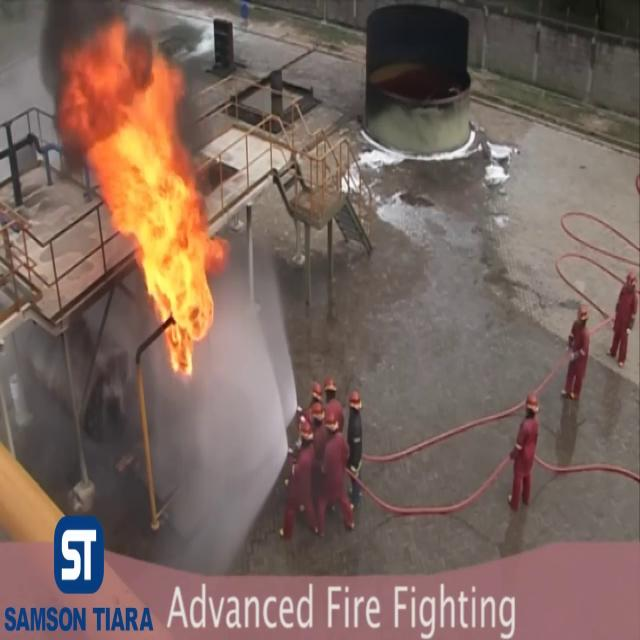Fire: (64, 20, 224, 373)
